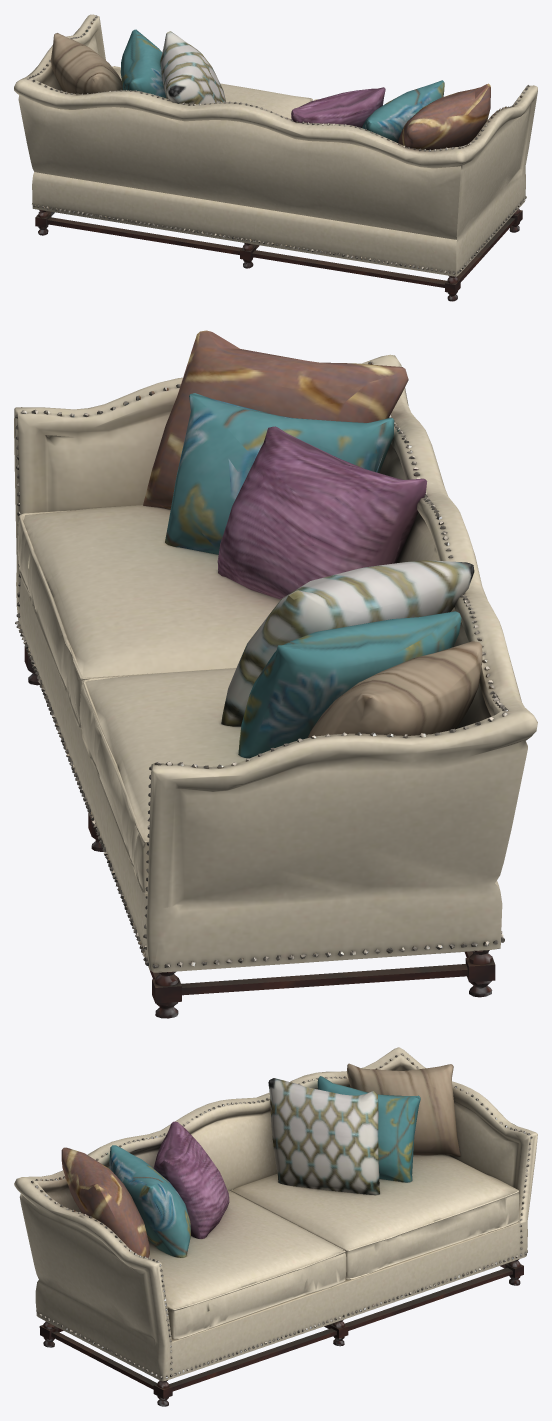
The picture shows the model from 3 angles, top to bottom: view 1: azimuth 30°, elevation 25°; view 2: azimuth 150°, elevation 25°; view 3: azimuth 270°, elevation 25°; orthographic projection. The views are drawn at different scales.
Parts seen in each view (by area): view 1: Three-Seat_/_Multi-person_sofa_solid_001.001, Three-Seat_/_Multi-person_sofa.002_solid_003.001, Three-Seat_/_Multi-person_sofa.003_solid_004.001, Three-Seat_/_Multi-person_sofa.004_solid_005.001, Three-Seat_/_Multi-person_sofa.006_solid_007.001, Three-Seat_/_Multi-person_sofa.007_solid_008.001, Three-Seat_/_Multi-person_sofa.005_solid_006.001, Three-Seat_/_Multi-person_sofa.001_solid_002.001; view 2: Three-Seat_/_Multi-person_sofa_solid_001.001, Three-Seat_/_Multi-person_sofa.003_solid_004.001, Three-Seat_/_Multi-person_sofa.005_solid_006.001, Three-Seat_/_Multi-person_sofa.004_solid_005.001, Three-Seat_/_Multi-person_sofa.006_solid_007.001, Three-Seat_/_Multi-person_sofa.007_solid_008.001, Three-Seat_/_Multi-person_sofa.002_solid_003.001, Three-Seat_/_Multi-person_sofa.001_solid_002.001; view 3: Three-Seat_/_Multi-person_sofa_solid_001.001, Three-Seat_/_Multi-person_sofa.006_solid_007.001, Three-Seat_/_Multi-person_sofa.003_solid_004.001, Three-Seat_/_Multi-person_sofa.002_solid_003.001, Three-Seat_/_Multi-person_sofa.007_solid_008.001, Three-Seat_/_Multi-person_sofa.005_solid_006.001, Three-Seat_/_Multi-person_sofa.004_solid_005.001, Three-Seat_/_Multi-person_sofa.001_solid_002.001.
Part boxes in pixels (x1,y1,x2,y2): Three-Seat_/_Multi-person_sofa_solid_001.001: [14, 14, 537, 276]; Three-Seat_/_Multi-person_sofa.002_solid_003.001: [35, 209, 522, 301]; Three-Seat_/_Multi-person_sofa.003_solid_004.001: [120, 29, 444, 142]; Three-Seat_/_Multi-person_sofa.004_solid_005.001: [398, 83, 490, 149]; Three-Seat_/_Multi-person_sofa.006_solid_007.001: [160, 31, 225, 104]; Three-Seat_/_Multi-person_sofa.007_solid_008.001: [51, 33, 122, 94]; Three-Seat_/_Multi-person_sofa.005_solid_006.001: [291, 87, 385, 127]; Three-Seat_/_Multi-person_sofa.001_solid_002.001: [27, 15, 529, 274]; Three-Seat_/_Multi-person_sofa_solid_001.001: [14, 354, 537, 972]; Three-Seat_/_Multi-person_sofa.003_solid_004.001: [165, 393, 461, 758]; Three-Seat_/_Multi-person_sofa.005_solid_006.001: [217, 426, 427, 599]; Three-Seat_/_Multi-person_sofa.004_solid_005.001: [143, 330, 408, 509]; Three-Seat_/_Multi-person_sofa.006_solid_007.001: [221, 560, 474, 726]; Three-Seat_/_Multi-person_sofa.007_solid_008.001: [307, 641, 482, 737]; Three-Seat_/_Multi-person_sofa.002_solid_003.001: [24, 647, 495, 1018]; Three-Seat_/_Multi-person_sofa.001_solid_002.001: [15, 361, 508, 968]; Three-Seat_/_Multi-person_sofa_solid_001.001: [14, 1047, 537, 1381]; Three-Seat_/_Multi-person_sofa.006_solid_007.001: [268, 1078, 379, 1195]; Three-Seat_/_Multi-person_sofa.003_solid_004.001: [109, 1076, 420, 1257]; Three-Seat_/_Multi-person_sofa.002_solid_003.001: [39, 1259, 523, 1406]; Three-Seat_/_Multi-person_sofa.007_solid_008.001: [347, 1063, 460, 1156]; Three-Seat_/_Multi-person_sofa.005_solid_006.001: [153, 1121, 229, 1238]; Three-Seat_/_Multi-person_sofa.004_solid_005.001: [61, 1147, 149, 1257]; Three-Seat_/_Multi-person_sofa.001_solid_002.001: [31, 1053, 532, 1378].
Size of the model in its own units: 2.15 by 0.9329 by 2.33.
Materials: 1 (1 with a texture image).
